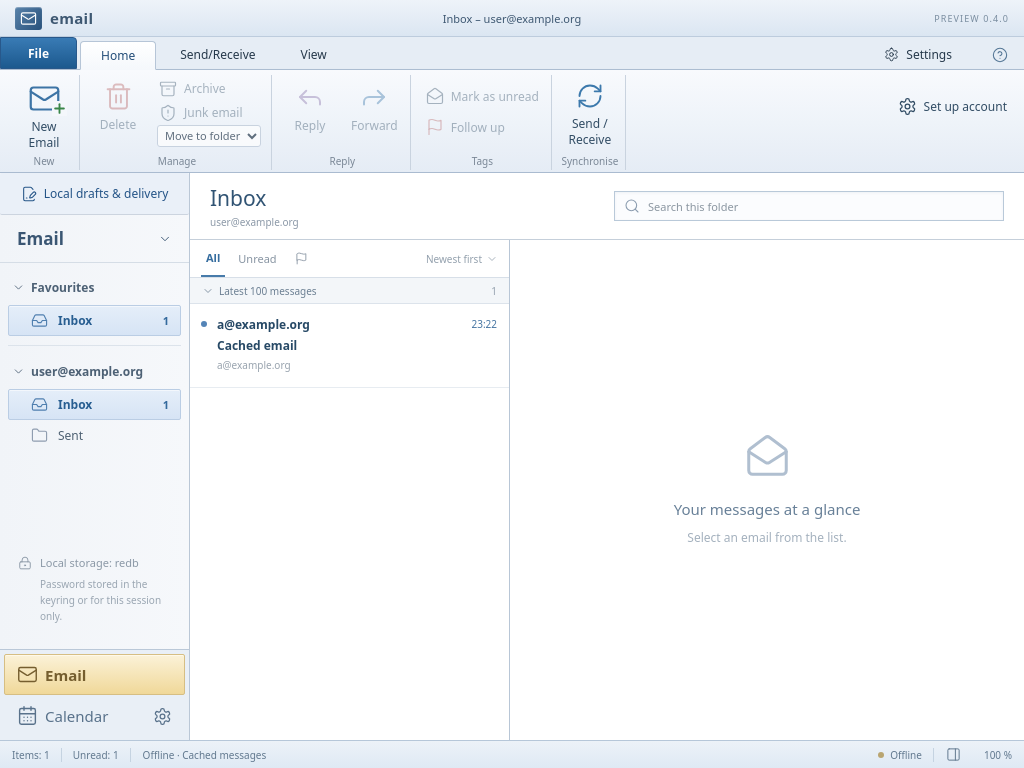
Test case: offline drafts and delivery › opens cached mail without forcing setup or accessing credentials
Expected: the text "Cached email" is shown, top-left (217, 337), bottom-right (297, 354)
Click the button "Local drafts & delivery" at (94, 194), box top-left (0, 173), bottom-right (189, 215)
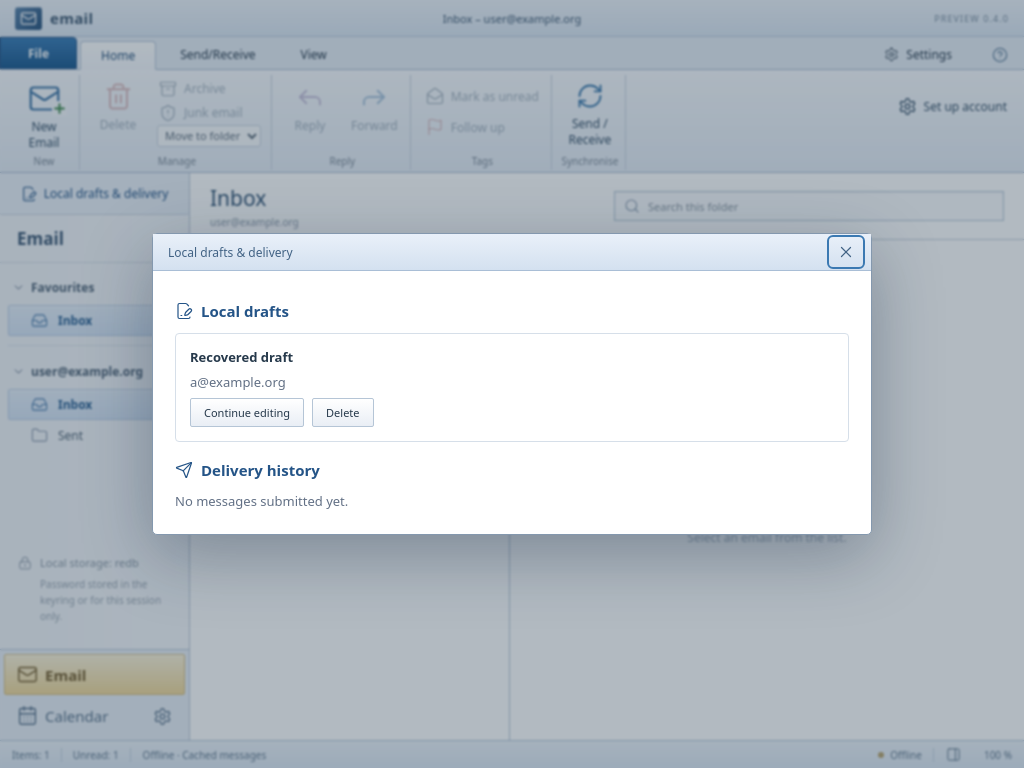
Now the text "Recovered draft" is shown, box top-left (190, 348), bottom-right (293, 366)
Click the button "Continue editing" at (247, 412), box top-left (190, 398), bottom-right (304, 427)
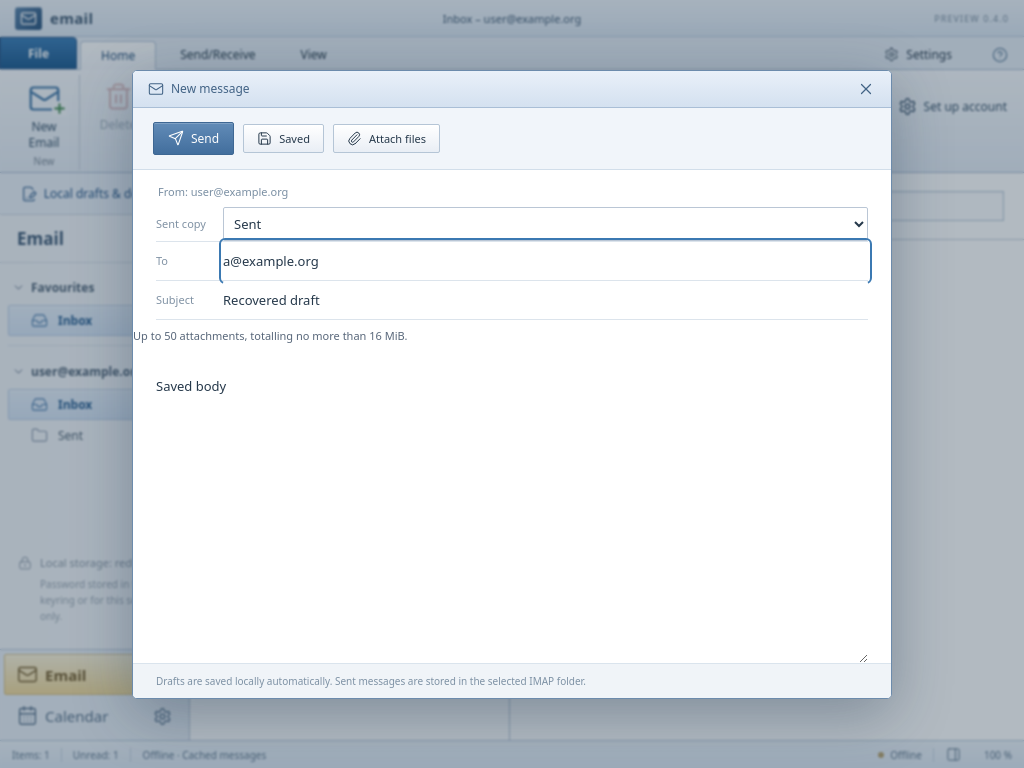
Now the text box named "Message body" holds "Saved body", box top-left (156, 362), bottom-right (868, 662)
Now the dropdown labelled "Sent copy" shows "Sent", box top-left (223, 206), bottom-right (868, 240)
